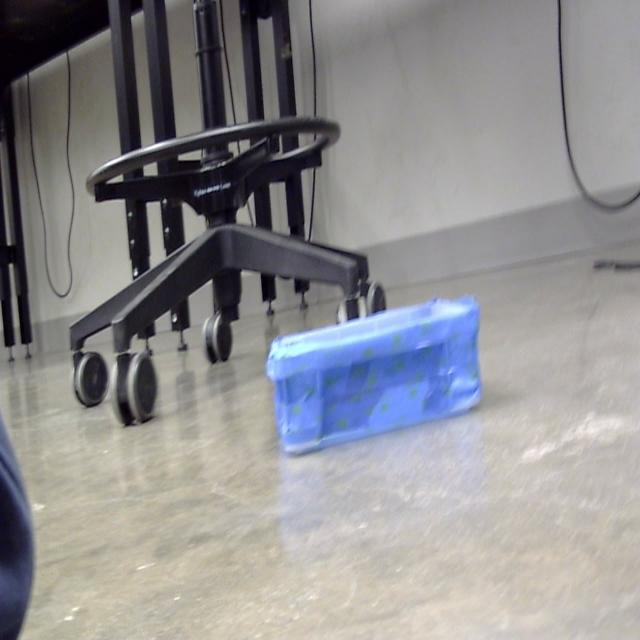bucket: (265, 297, 484, 457)
